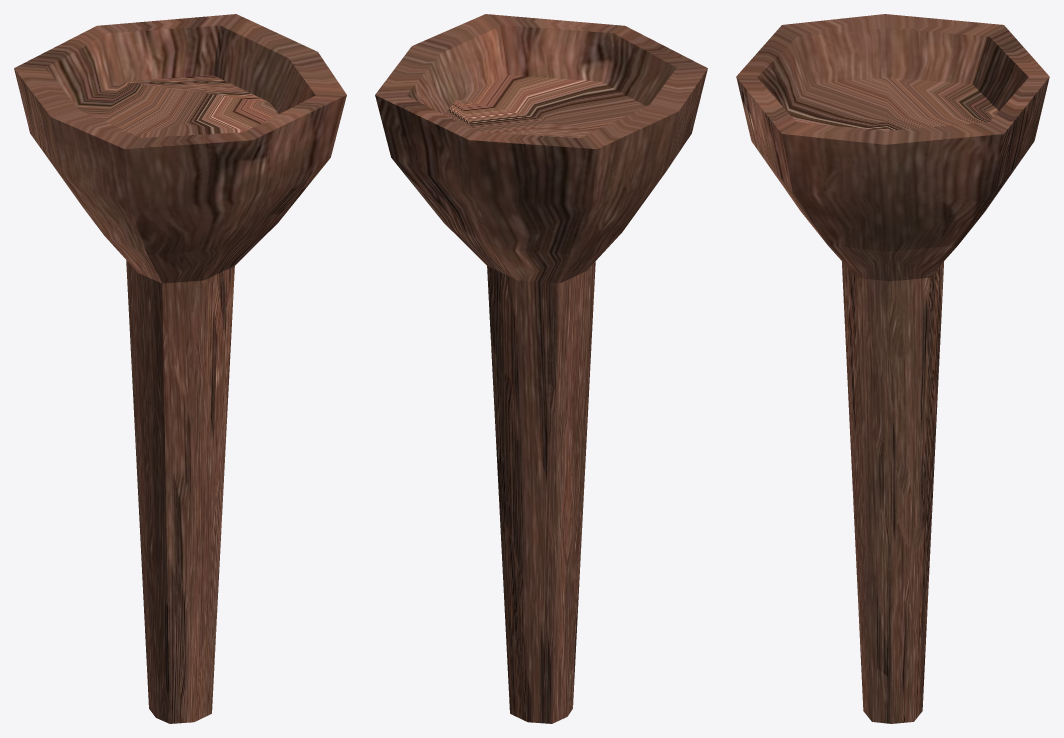
The model's file is torch.fbx.
3 views of the same model, side by side, from view 1: azimuth 30°, elevation 25°; view 2: azimuth 150°, elevation 25°; view 3: azimuth 270°, elevation 25° (orthographic).
Parts seen in each view (by area): view 1: polySurface1; view 2: polySurface1; view 3: polySurface1.
Part boxes in pixels (x1,y1,x2,y2): polySurface1: [14, 14, 346, 723]; polySurface1: [375, 14, 707, 723]; polySurface1: [736, 14, 1049, 723].
Bounding box in the file's own units: 143 × 327 × 145.
